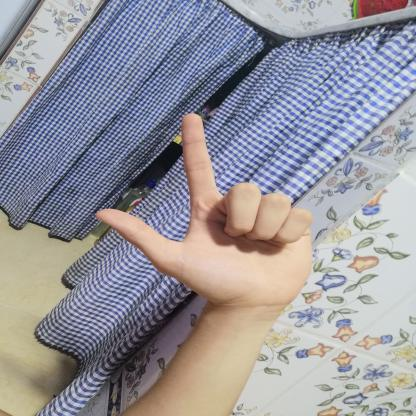LAAM: (76, 100, 324, 316)
